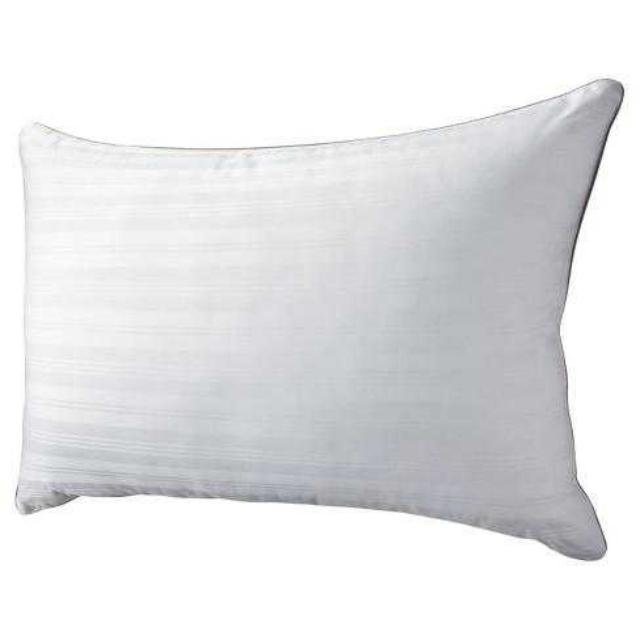pillow: (12, 76, 624, 562)
